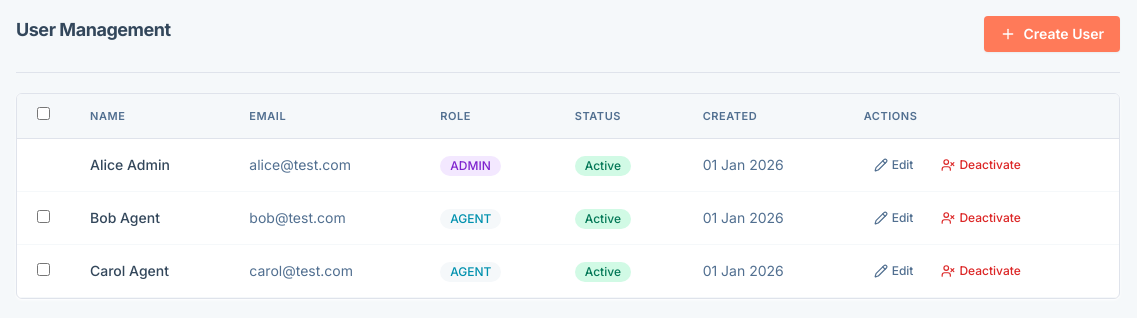
UsersPage — force logout selected agents › the header checkbox selects every agent (but not admins), and toggles them all off again
Expected: the text "Bob Agent" is shown, [70,192,229,244]
What coordinates should you click on to do the following:
click the checkbox named "Select all agents"
I would click on:
 (44, 114)
Its box is [37,107,50,120].
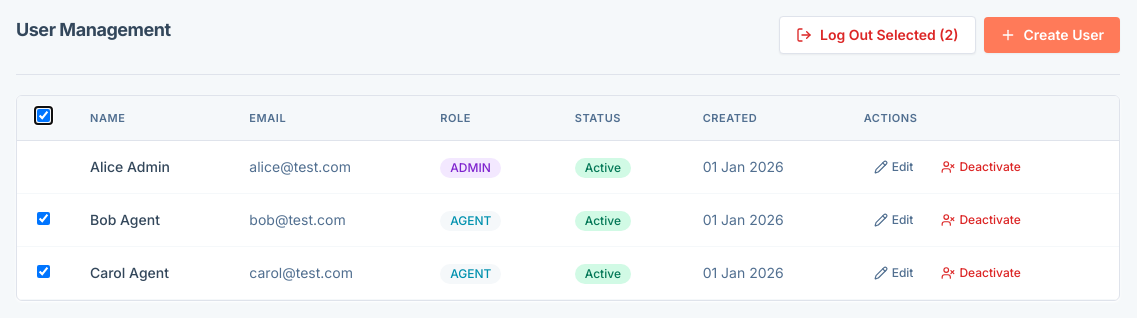
Now the button "Log Out Selected (2)" is shown, box [779,16,976,54]
Now the checkbox named "Select Bob Agent" is checked, box [37,212,50,225]
Now the checkbox named "Select Carol Agent" is checked, box [37,265,50,278]
What coordinates should you click on to do the following:
click the checkbox named "Select all agents"
I would click on:
 (44, 116)
Its box is [37,109,50,122].
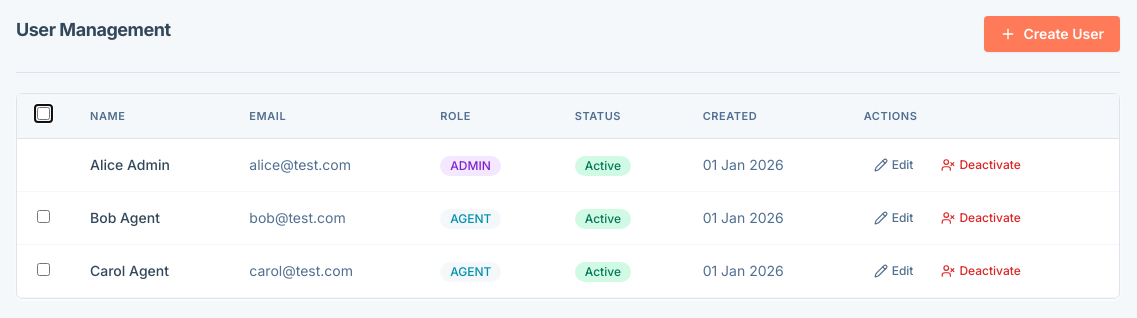
Now the button "Log Out Selected" is gone
